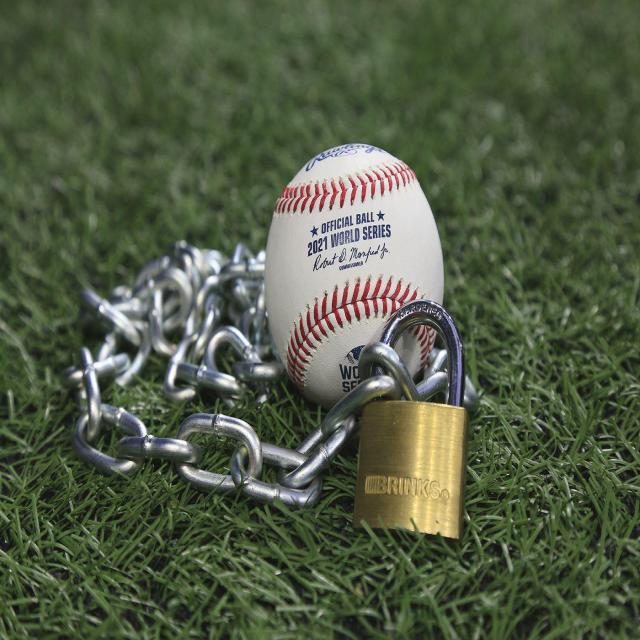baseball: (262, 139, 445, 392)
